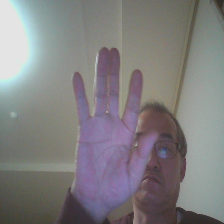hand: (71, 41, 159, 220)
